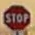stop: (2, 4, 31, 30)
